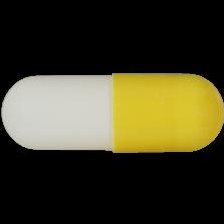43063-660: (0, 0, 224, 224)
